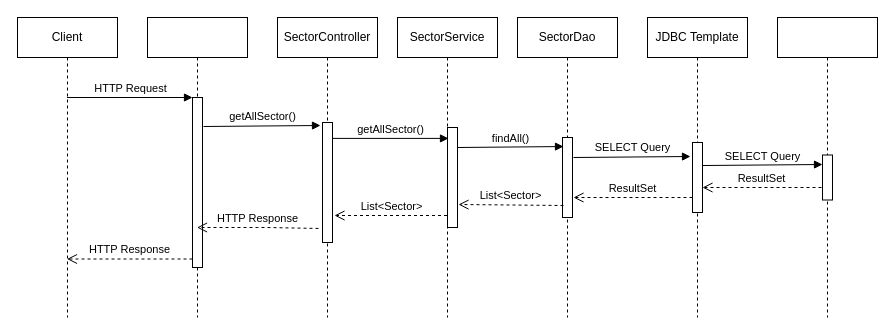
This 895x335 diagram has some shape labels left out. The box of each missing label's shape, as (x1, y1, x2, y2) in pixels:
sectorDB: (776, 16, 878, 318)
SpringApplication: (146, 16, 248, 318)
